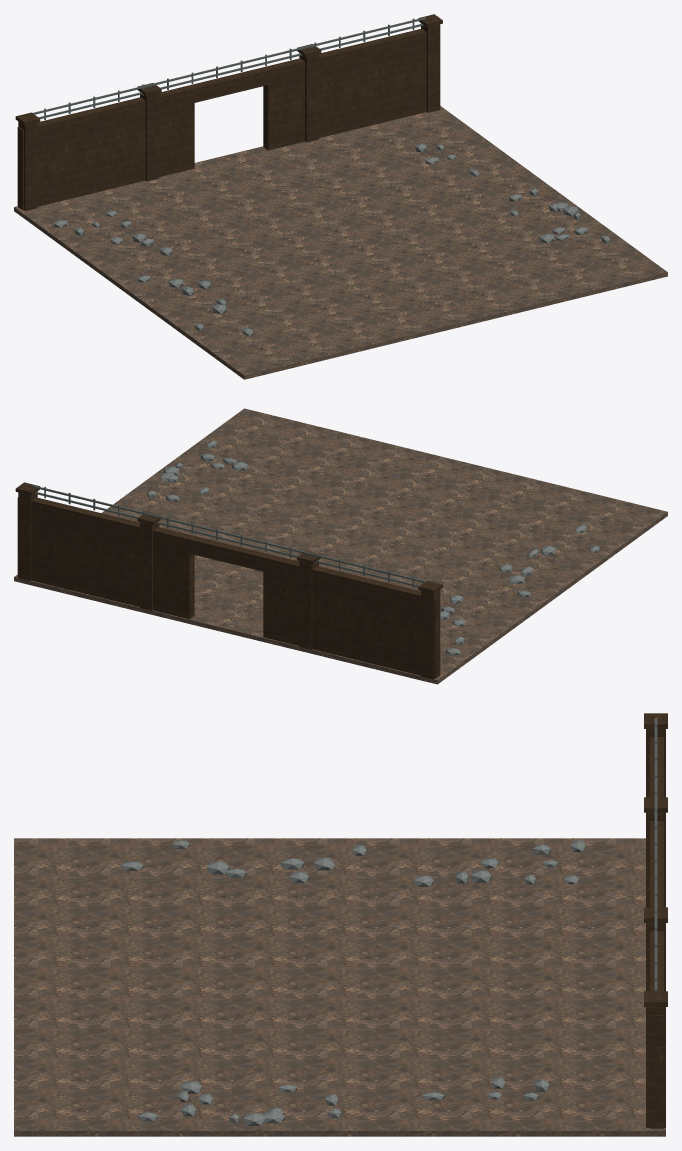
Rendered from rain-exterior-rebuilt.glb.
3 renders of one model, top to bottom at view 1: azimuth 30°, elevation 25°; view 2: azimuth 150°, elevation 25°; view 3: azimuth 270°, elevation 25°, orthographic. The views are drawn at different scales.
Visible parts, largest first — view 1: 潮湿石地, 外墙, 外墙.001, 排水口上方石墙, 围墙立柱.001, 围墙立柱.003, 围墙立柱, 围墙立柱.002, 墙顶铁栏横杆.001, 墙顶铁栏横杆; view 2: 潮湿石地, 外墙, 外墙.001, 排水口上方石墙, 围墙立柱.003, 围墙立柱.001, 墙顶铁栏横杆.001, 围墙立柱, 围墙立柱.002, 墙顶铁栏横杆; view 3: 潮湿石地, 外墙.001, 外墙, 墙顶铁栏横杆.001, 围墙立柱.003, 围墙立柱.001, 排水口上方石墙.
Part boxes in pixels (bbox=[...]): 潮湿石地: bbox=[14, 106, 667, 379]; 外墙: bbox=[17, 85, 194, 210]; 外墙.001: bbox=[263, 28, 426, 150]; 排水口上方石墙: bbox=[190, 67, 268, 102]; 围墙立柱.001: bbox=[140, 93, 159, 181]; 围墙立柱.003: bbox=[421, 23, 440, 112]; 围墙立柱: bbox=[18, 121, 37, 210]; 围墙立柱.002: bbox=[299, 53, 318, 142]; 墙顶铁栏横杆.001: bbox=[32, 17, 426, 114]; 墙顶铁栏横杆: bbox=[39, 23, 423, 118]; 潮湿石地: bbox=[14, 408, 667, 684]; 外墙: bbox=[263, 554, 440, 678]; 外墙.001: bbox=[17, 497, 194, 618]; 排水口上方石墙: bbox=[189, 536, 267, 571]; 围墙立柱.003: bbox=[18, 491, 37, 580]; 围墙立柱.001: bbox=[299, 560, 318, 649]; 墙顶铁栏横杆.001: bbox=[32, 485, 426, 583]; 围墙立柱: bbox=[421, 590, 440, 679]; 围墙立柱.002: bbox=[140, 521, 159, 610]; 墙顶铁栏横杆: bbox=[35, 492, 419, 587]; 潮湿石地: bbox=[14, 838, 665, 1136]; 外墙.001: bbox=[650, 897, 663, 1128]; 外墙: bbox=[650, 737, 663, 846]; 墙顶铁栏横杆.001: bbox=[654, 718, 657, 991]; 围墙立柱.003: bbox=[646, 1007, 665, 1127]; 围墙立柱.001: bbox=[646, 812, 665, 907]; 排水口上方石墙: bbox=[650, 846, 663, 897].
Bounding box in the file's own units: 34.5 × 7.65 × 32.6.
4 materials, 2 textured.
